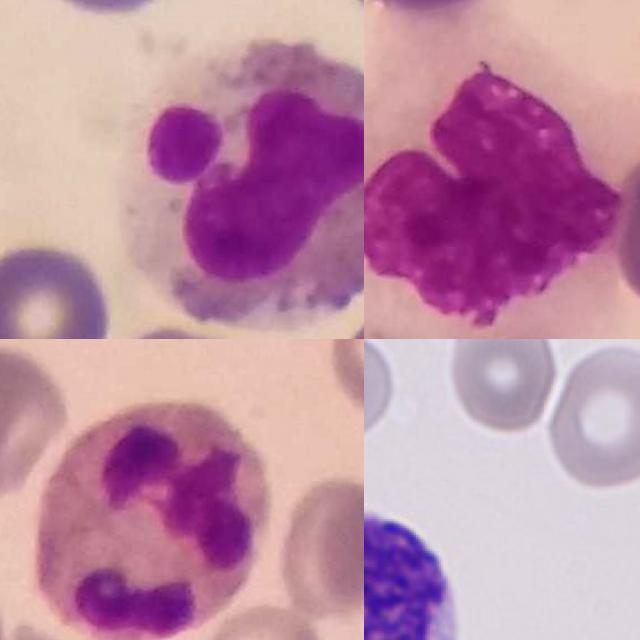Eosinophil: (114, 33, 364, 332)
Lymphocyte: (364, 489, 473, 640)
Monocyte: (364, 35, 629, 339)
Neutrophil: (34, 399, 267, 639)
RBC: (540, 339, 640, 496), (442, 339, 560, 439), (364, 339, 400, 444)
